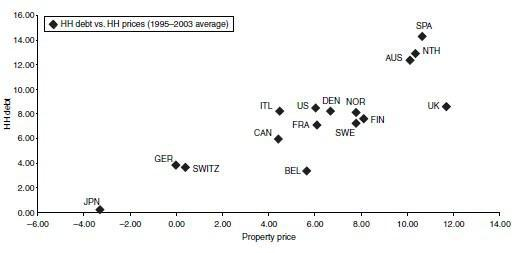axis: (35, 209, 505, 217), (34, 12, 40, 219)
point: (441, 100, 453, 113), (301, 164, 313, 176), (325, 105, 337, 117), (410, 47, 422, 59), (273, 106, 286, 117), (170, 159, 181, 171), (180, 161, 191, 173), (273, 133, 284, 145), (311, 119, 322, 131), (404, 54, 415, 66), (415, 32, 428, 42), (310, 102, 321, 113), (94, 205, 106, 215), (350, 119, 361, 129), (351, 107, 361, 117), (359, 114, 369, 124)
